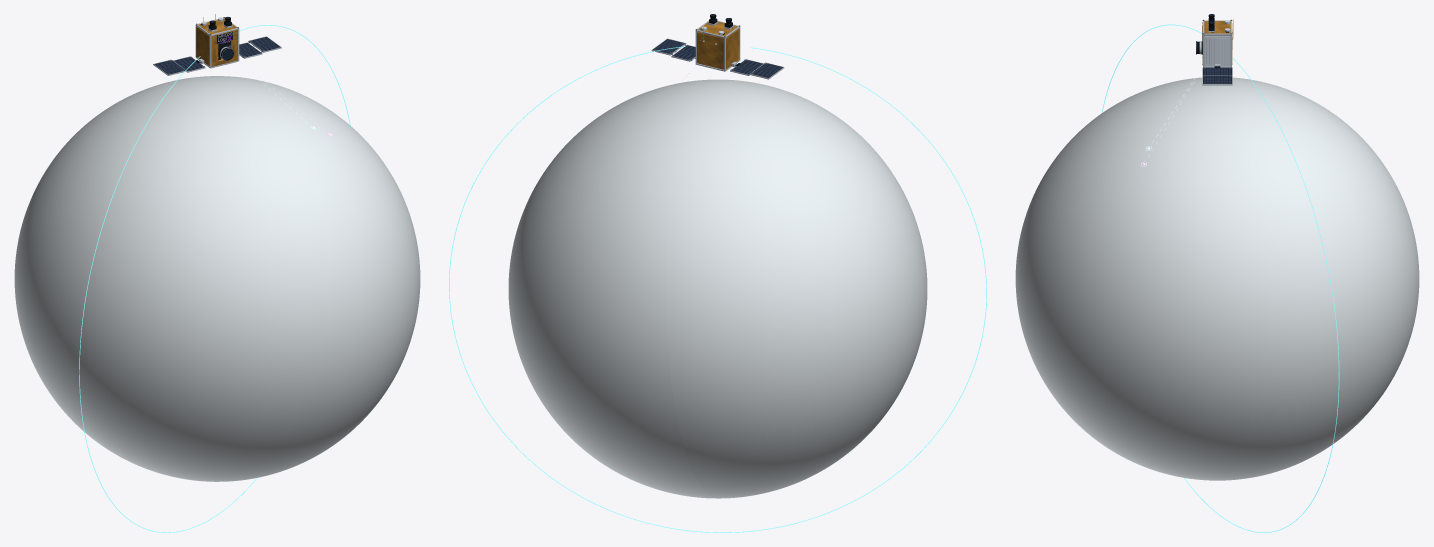
Rendered from SLX_OrbitLab_OrbitalScene.glb.
3 renders of one model, left to right at view 1: azimuth 30°, elevation 25°; view 2: azimuth 150°, elevation 25°; view 3: azimuth 270°, elevation 25°, orthographic. The views are drawn at different scales.
Visible parts, largest first — view 1: ENV_Earth_CloudLayer, ENV_Orbit_PolarTrajectory; view 2: ENV_Earth_CloudLayer, ENV_Orbit_PolarTrajectory, ORBIT_Shell_Back; view 3: ENV_Earth_CloudLayer, ENV_Orbit_PolarTrajectory, ORBIT_Shell_Right.
Boxes of the visible parts, box(x1,y1,x2,y2) form: ENV_Earth_CloudLayer: box(14, 76, 420, 481); ENV_Orbit_PolarTrajectory: box(79, 25, 350, 532); ENV_Earth_CloudLayer: box(508, 79, 927, 498); ENV_Orbit_PolarTrajectory: box(449, 46, 986, 532); ORBIT_Shell_Back: box(697, 32, 723, 69); ENV_Earth_CloudLayer: box(1015, 77, 1419, 480); ENV_Orbit_PolarTrajectory: box(1102, 24, 1339, 532); ORBIT_Shell_Right: box(1204, 35, 1230, 65).
Size of the model in its own units: 18.21 by 21.72 by 16.1.
20 materials, 5 textured.
